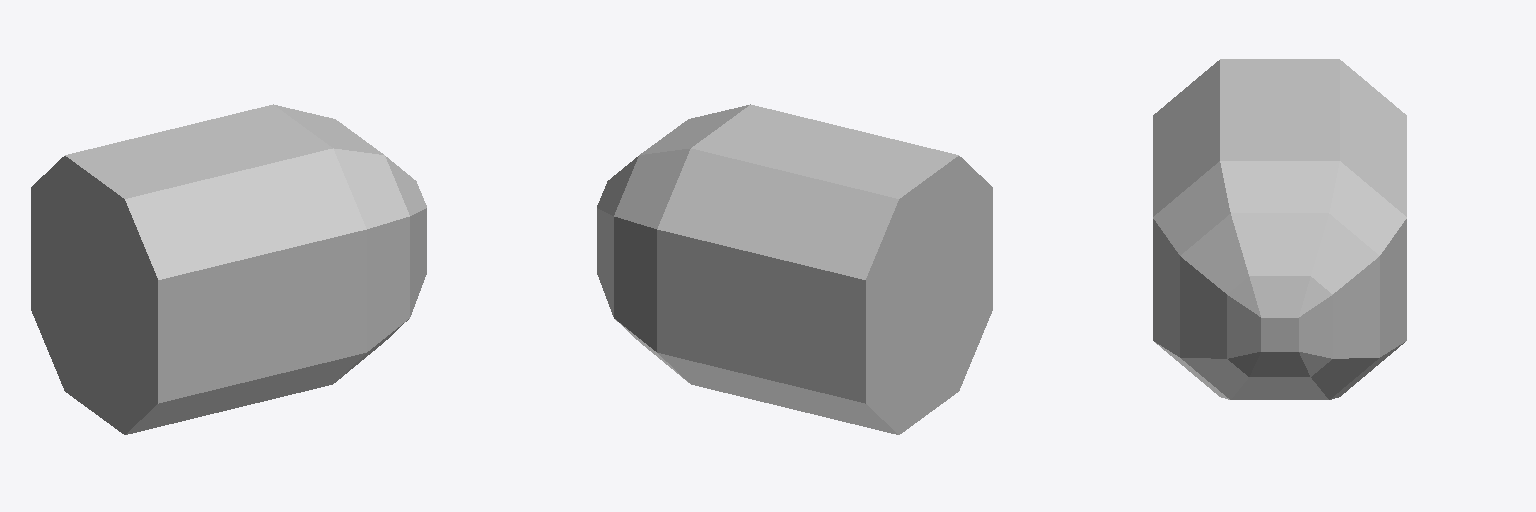
The model's file is Spacestation_Propulsion_Thruster_Single_Small_Housing_Front.obj.
The picture shows the model from 3 angles: view 1: azimuth 30°, elevation 25°; view 2: azimuth 150°, elevation 25°; view 3: azimuth 270°, elevation 25°; orthographic projection.
Parts seen in each view (by area): view 1: object1; view 2: object1; view 3: object1.
Boxes of the visible parts, box(x1,y1,x2,y2) form: object1: box(31, 104, 426, 434); object1: box(597, 104, 992, 434); object1: box(1153, 59, 1406, 399).
Size of the model in its own units: 1 by 0.7 by 0.6836.